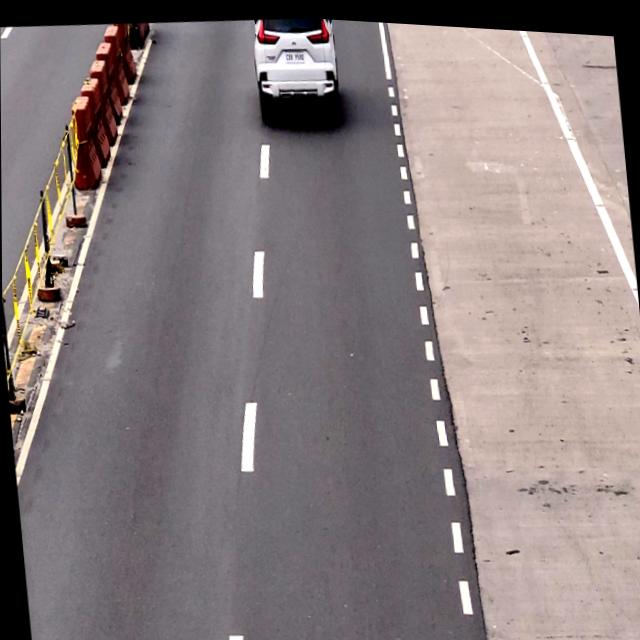Car: (251, 12, 341, 120)
License-Plate: (285, 46, 305, 63)
